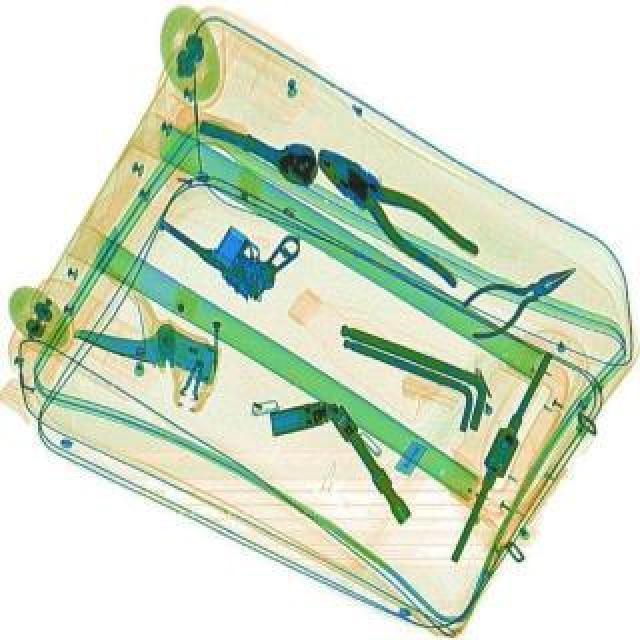gun: (150, 168, 312, 308)
wrench: (300, 136, 488, 290), (454, 246, 590, 344)
